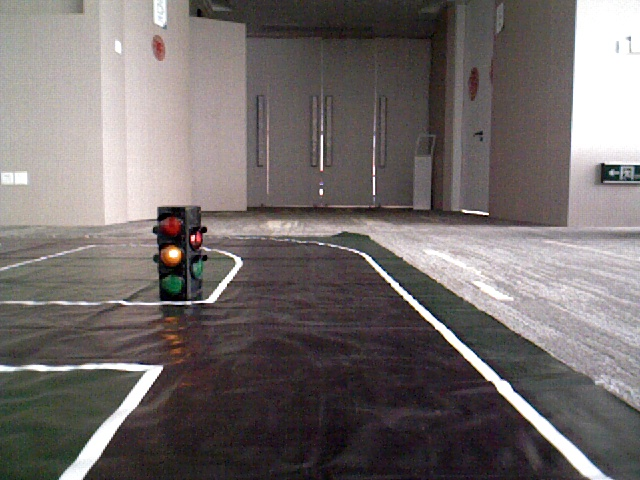yellow: (159, 209, 187, 294)
